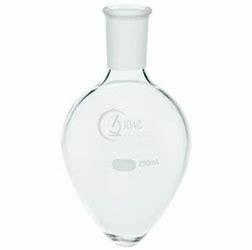Pear shaped flask: (55, 9, 192, 240)
